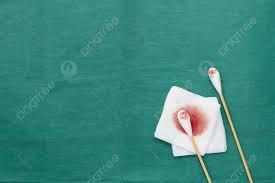cotton: (155, 86, 225, 155), (206, 113, 226, 153)
